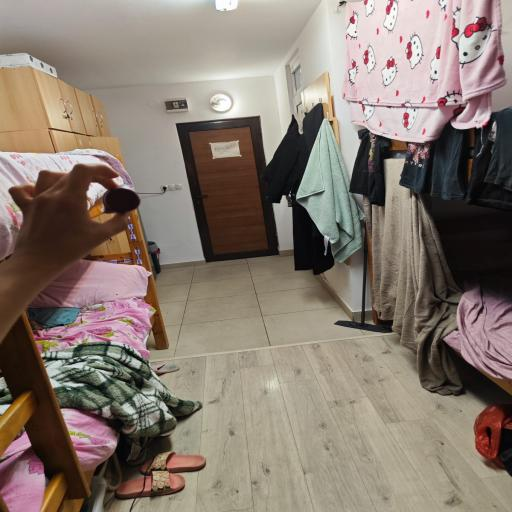Hand Cream: (98, 184, 144, 216)
